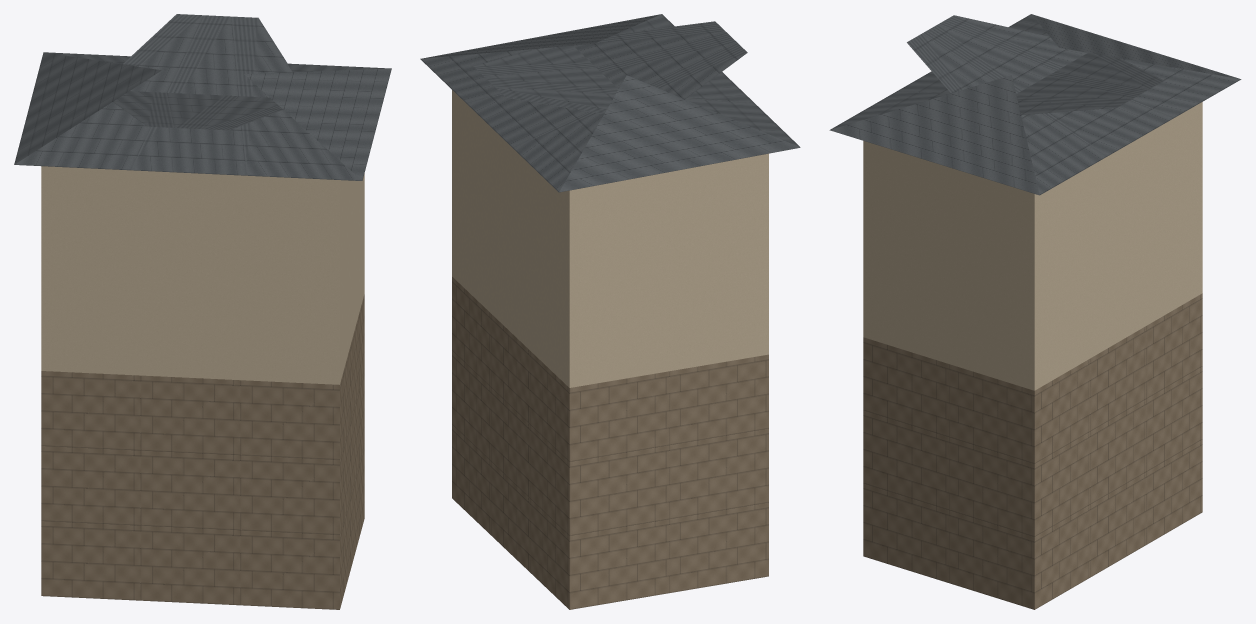
Rendered from bld_c42_-48_464.gltf.
3 views of the same model, side by side, from view 1: azimuth 30°, elevation 25°; view 2: azimuth 150°, elevation 25°; view 3: azimuth 270°, elevation 25° (orthographic). The views are drawn at different scales.
Visible parts, largest first — view 1: bld_c42_-48_464; view 2: bld_c42_-48_464; view 3: bld_c42_-48_464.
Boxes of the visible parts, <box> form: bld_c42_-48_464: <box>14,14,391,609</box>; bld_c42_-48_464: <box>420,14,800,609</box>; bld_c42_-48_464: <box>829,14,1241,609</box>.
Bounding box in the file's own units: 8.99 × 10.9 × 8.63.
3 materials, 3 textured.
